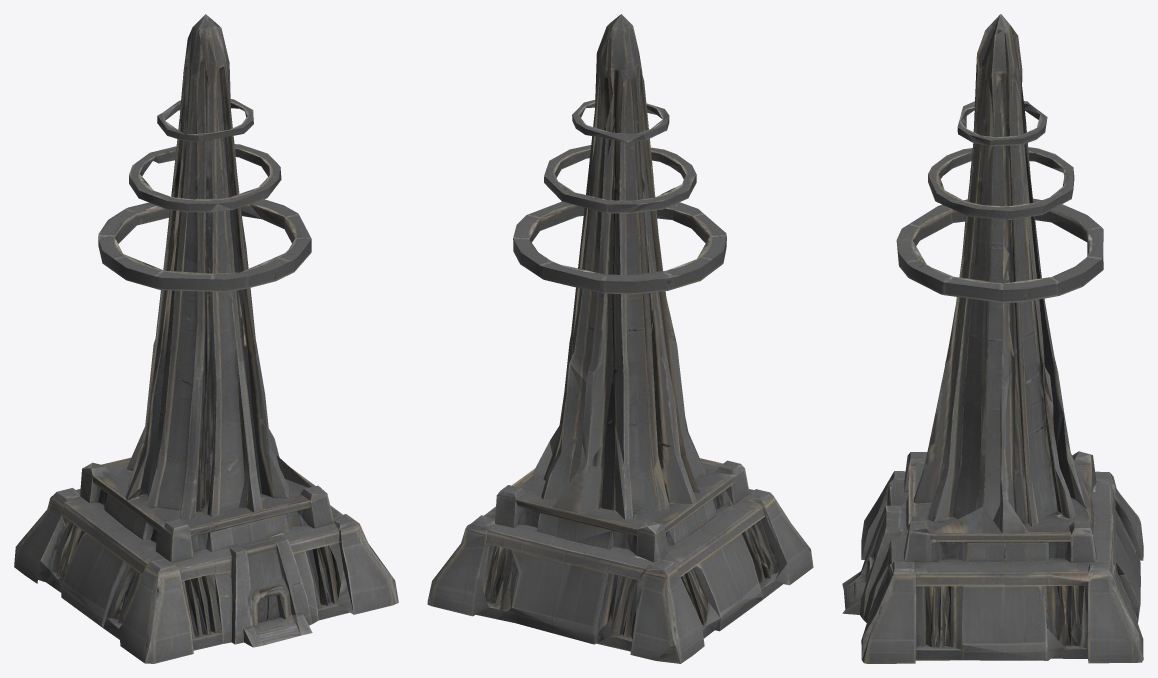
The model's file is imperial_psionic_spire_lod2.glb.
3 renders of one model, left to right at view 1: azimuth 30°, elevation 25°; view 2: azimuth 150°, elevation 25°; view 3: azimuth 270°, elevation 25°, orthographic. The views are drawn at different scales.
Parts seen in each view (by area): view 1: mesh_node; view 2: mesh_node; view 3: mesh_node.
Part boxes in pixels (x1=…): mesh_node: x1=14, y1=14, x2=398, y2=663; mesh_node: x1=427, y1=14, x2=813, y2=663; mesh_node: x1=842, y1=14, x2=1143, y2=663.
Size of the model in its own units: 29.8 by 64 by 29.82.
1 material, 1 textured.
